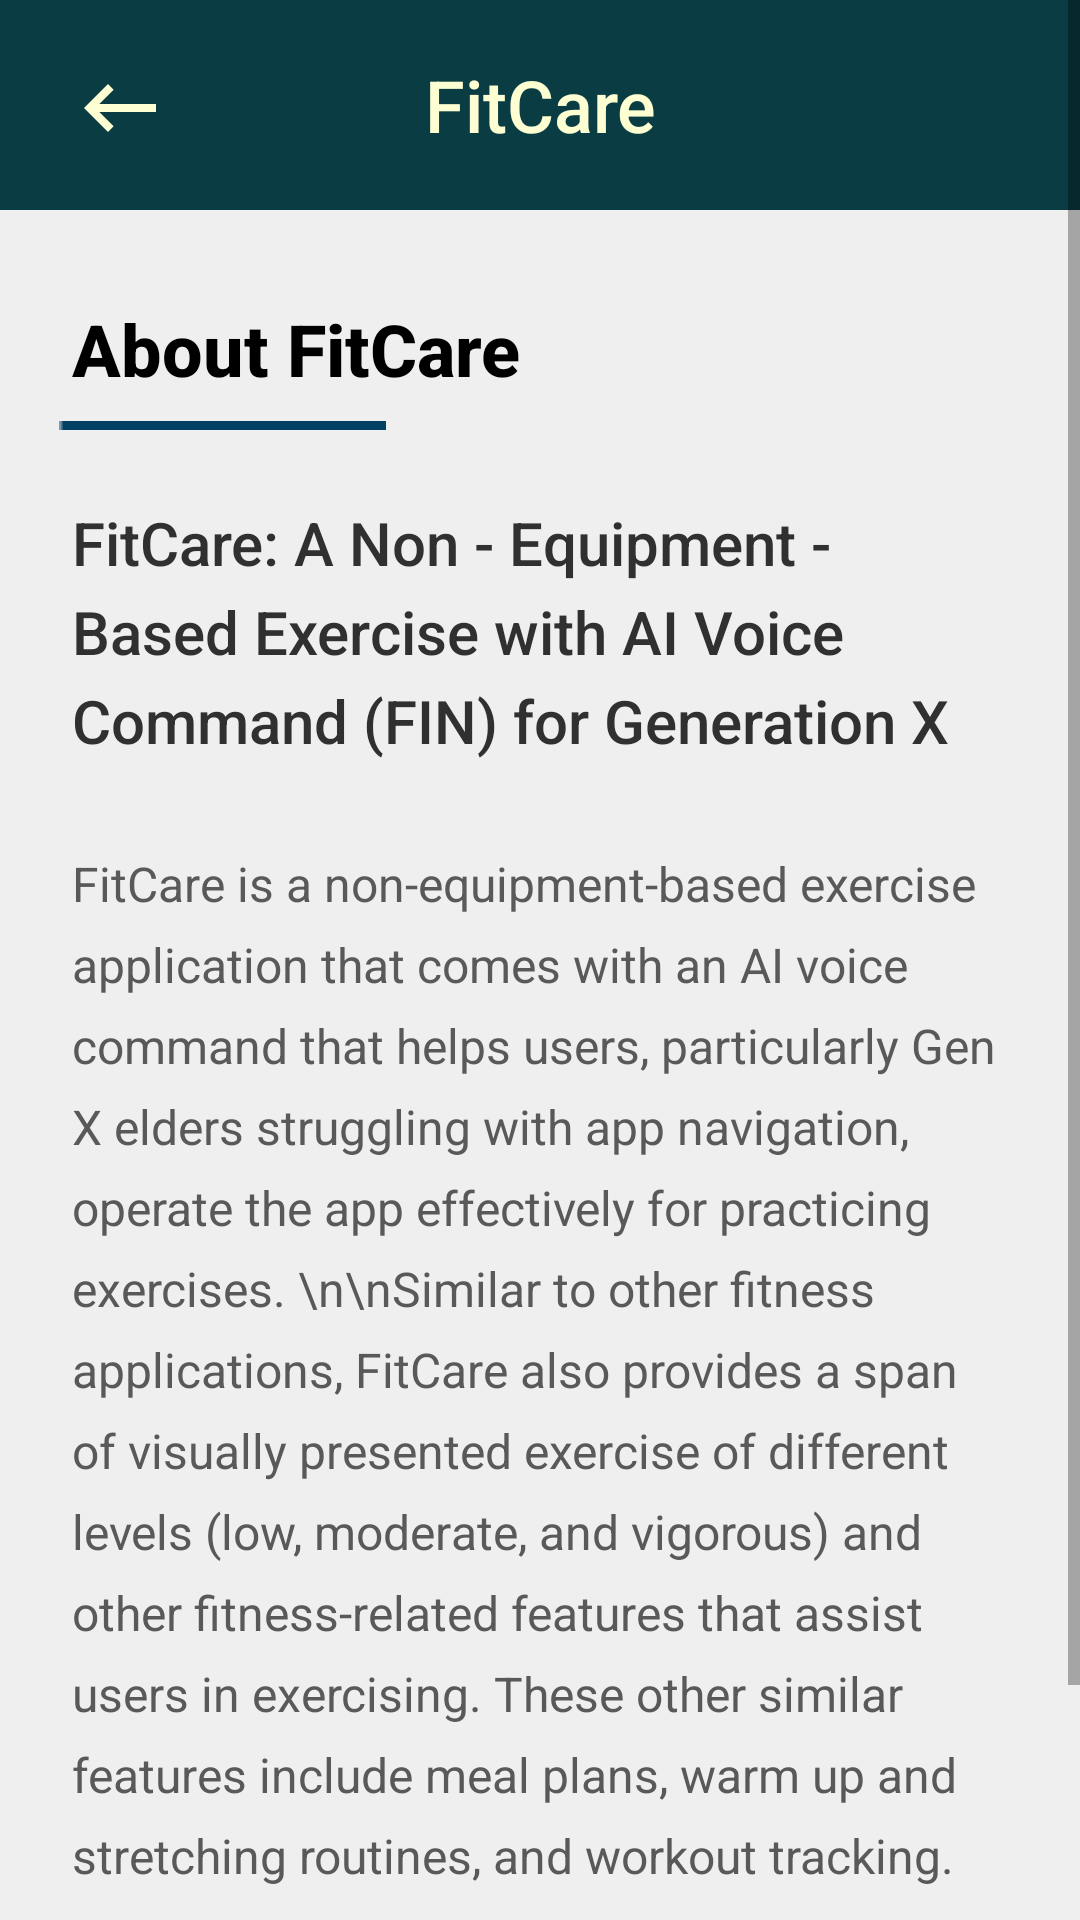

Locate icon controls on the screen. Image size 1080×1920, boxes as (x1, y1, x2, y2).
back: (84, 84, 156, 132)
